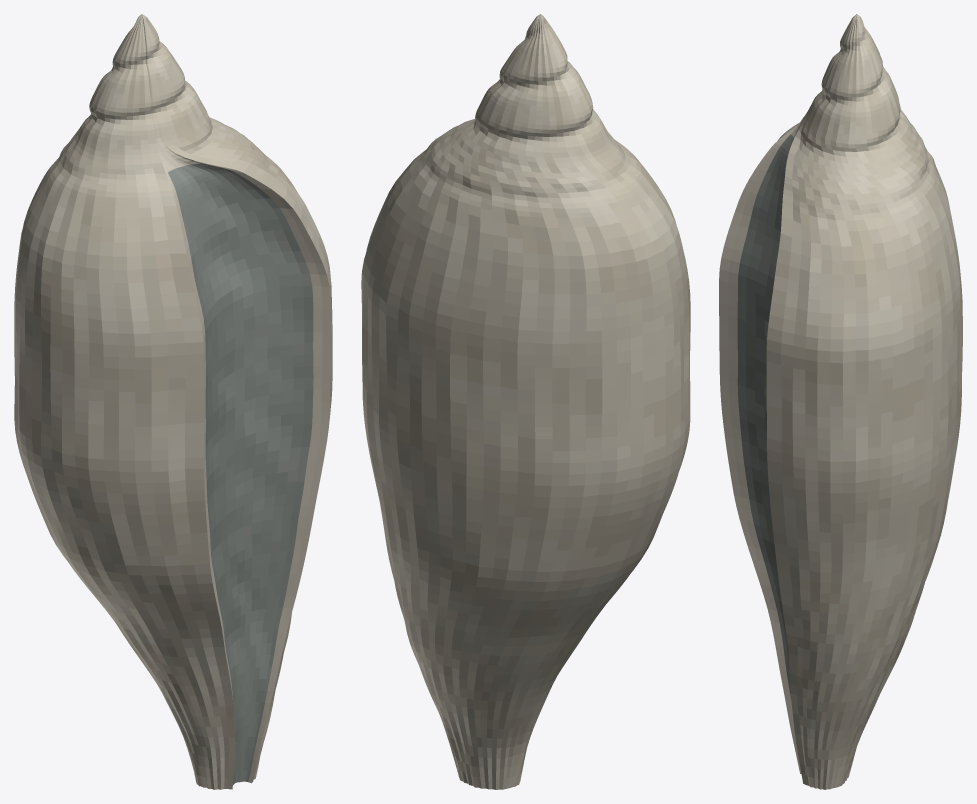
3 views of the same model, side by side, from view 1: azimuth 30°, elevation 25°; view 2: azimuth 150°, elevation 25°; view 3: azimuth 270°, elevation 25° (orthographic). The views are drawn at different scales.
Visible parts, largest first — view 1: Preserved_shell_and_shallow_aperture; view 2: Preserved_shell_and_shallow_aperture; view 3: Preserved_shell_and_shallow_aperture.
Boxes of the visible parts, <box> form: Preserved_shell_and_shallow_aperture: <box>14,14,332,789</box>; Preserved_shell_and_shallow_aperture: <box>361,14,690,789</box>; Preserved_shell_and_shallow_aperture: <box>719,14,962,789</box>.
Bounding box in the file's own units: 0.0398 × 0.1 × 0.0302.
